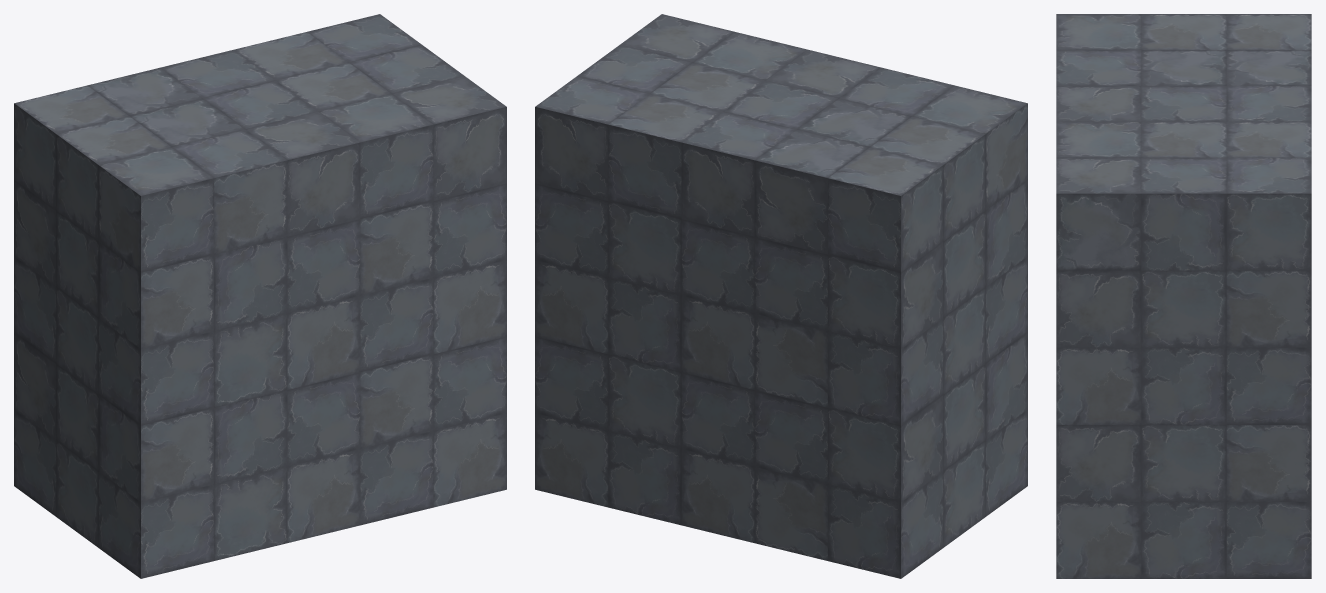
Rendered from Castle Block 5x3x5.fbx.
3 renders of one model, left to right at view 1: azimuth 30°, elevation 25°; view 2: azimuth 150°, elevation 25°; view 3: azimuth 270°, elevation 25°, orthographic.
Parts seen in each view (by area): view 1: Castle Block 5x3x5; view 2: Castle Block 5x3x5; view 3: Castle Block 5x3x5.
Boxes of the visible parts, bbox=[...] form: Castle Block 5x3x5: bbox=[14, 14, 506, 578]; Castle Block 5x3x5: bbox=[535, 14, 1027, 578]; Castle Block 5x3x5: bbox=[1056, 14, 1311, 578].
Bounding box in the file's own units: 3.75 × 3.75 × 2.25.
